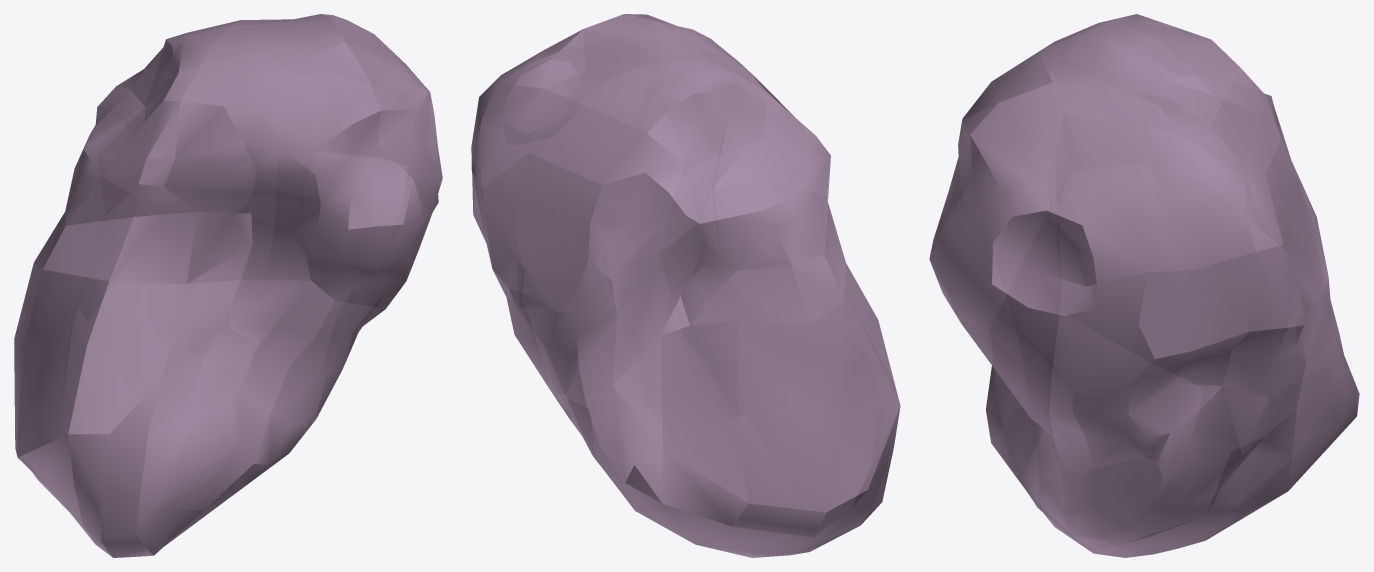
File: Asteroid01b_LOD1.fbx
3 renders of one model, left to right at view 1: azimuth 30°, elevation 25°; view 2: azimuth 150°, elevation 25°; view 3: azimuth 270°, elevation 25°, orthographic. The views are drawn at different scales.
Visible parts, largest first — view 1: Asteroid01b_LOD1; view 2: Asteroid01b_LOD1; view 3: Asteroid01b_LOD1.
Boxes of the visible parts, x1,y1,x2,y2 form: Asteroid01b_LOD1: (14,14,442,557); Asteroid01b_LOD1: (471,14,900,557); Asteroid01b_LOD1: (929,14,1359,557).
Bounding box in the file's own units: 1.79 × 2.09 × 1.42.
